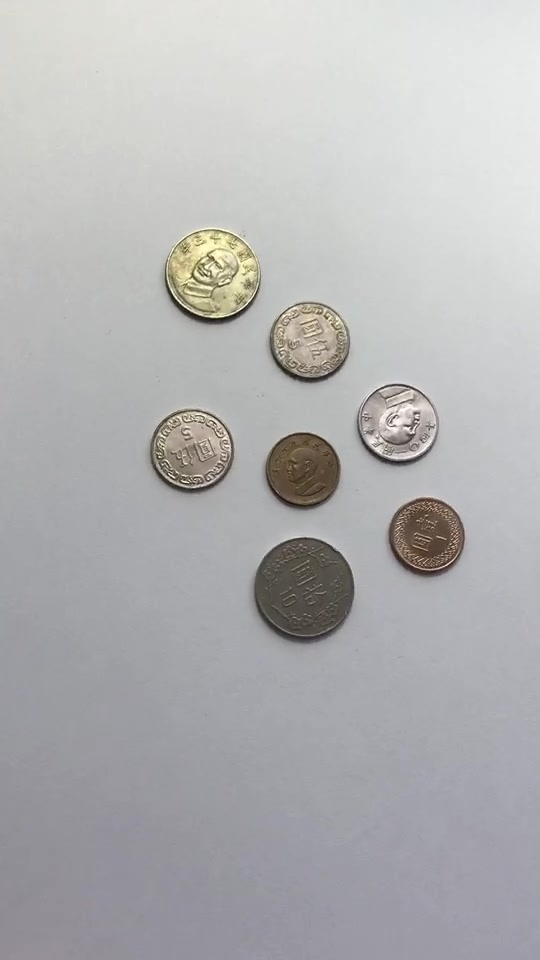1 dallar: (255, 427, 348, 519), (379, 490, 472, 582)
10 dallar: (158, 218, 265, 342), (250, 528, 357, 652)
5 dallar: (140, 395, 242, 501), (254, 292, 356, 398), (353, 363, 455, 469)
